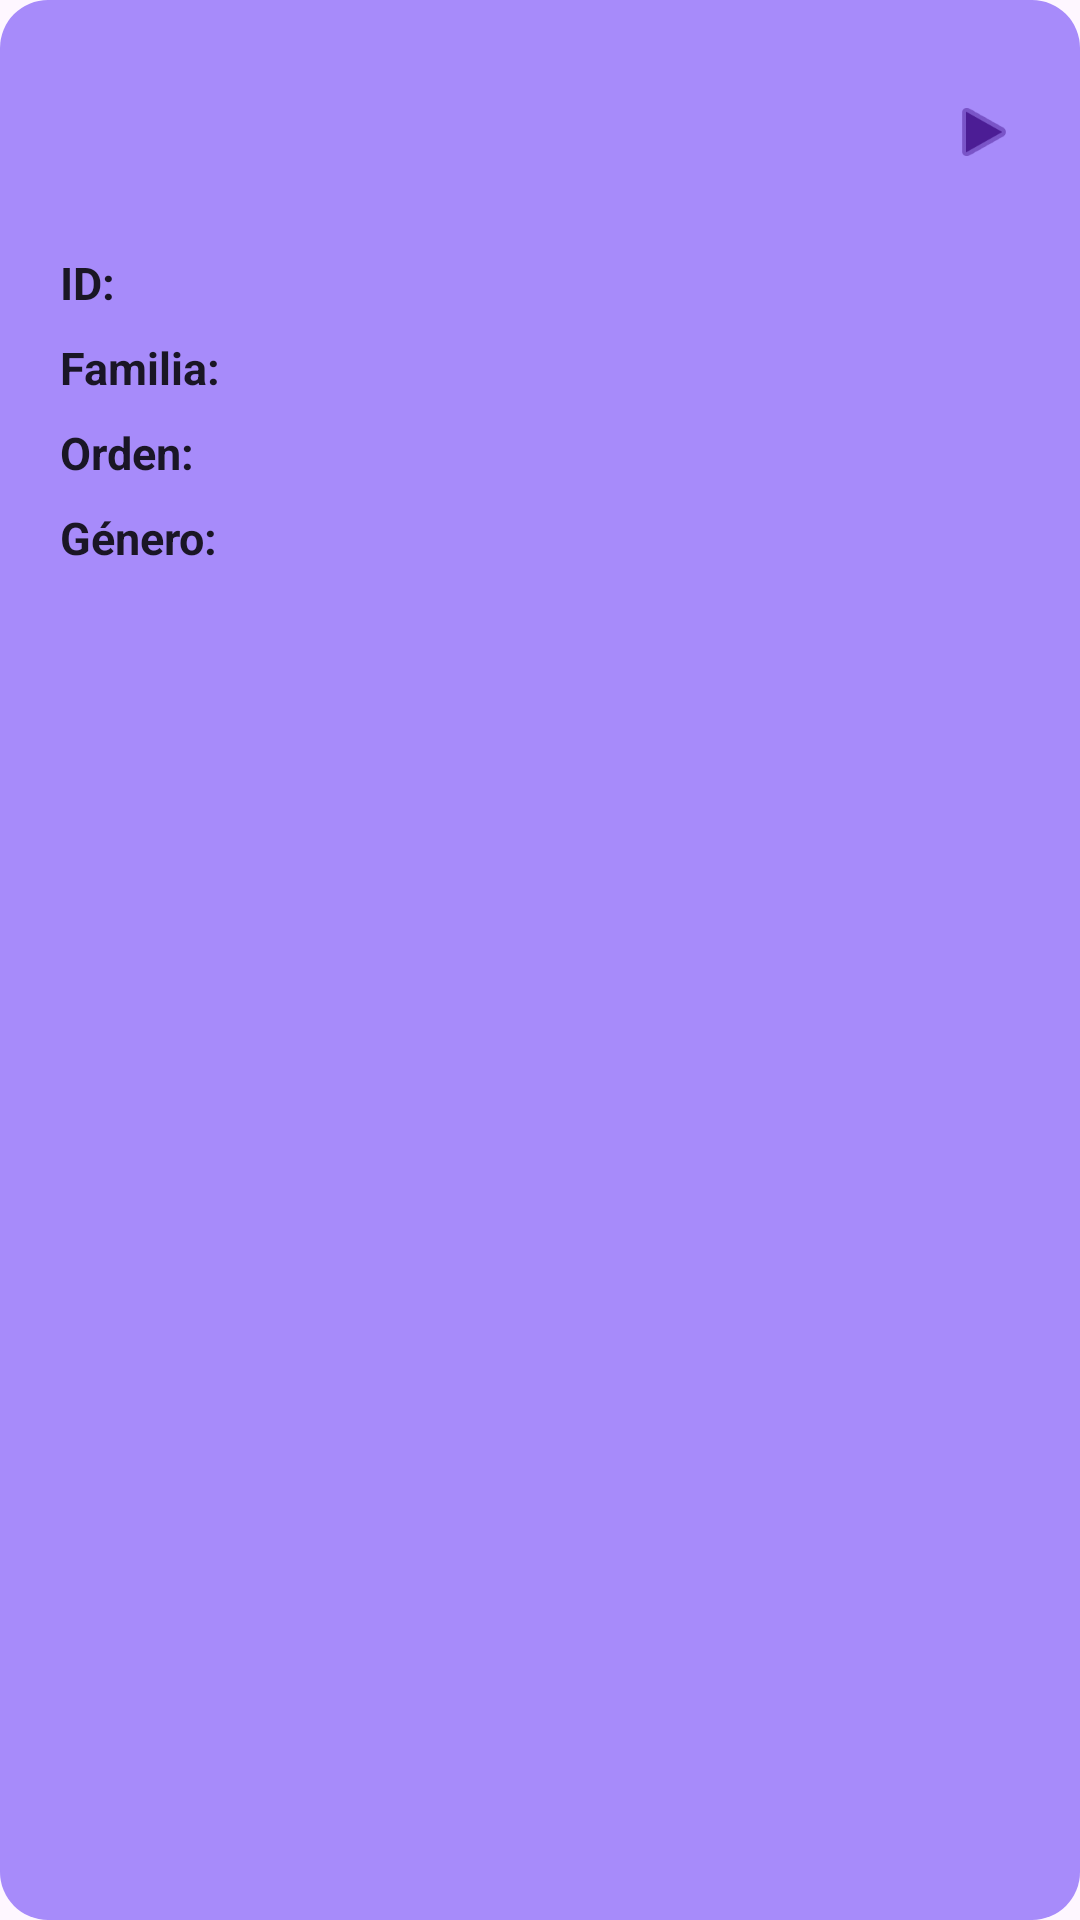

Screen size 1080x1920. Icon name, then its center in pixels as (x,y):
play: (984,132)
